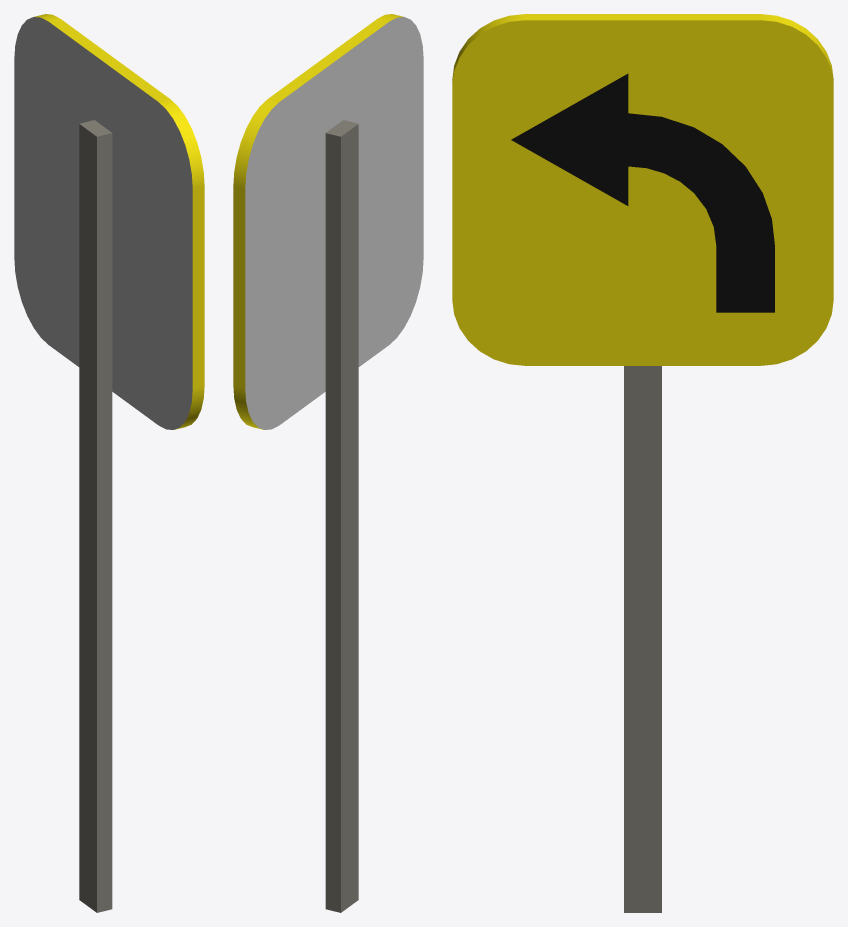
The model's file is Prop_Track_Sign_Upcoming_Curve_90.obj.
The picture shows the model from 3 angles, left to right: view 1: azimuth 30°, elevation 25°; view 2: azimuth 150°, elevation 25°; view 3: azimuth 270°, elevation 25°; orthographic projection. The views are drawn at different scales.
Parts seen in each view (by area): view 1: object2, object1; view 2: object2, object1; view 3: object2, object1.
Boxes of the visible parts, x1=… form: object2: x1=14, y1=14, x2=204, y2=429; object1: x1=79, y1=120, x2=112, y2=912; object2: x1=233, y1=14, x2=423, y2=429; object1: x1=325, y1=120, x2=358, y2=912; object2: x1=452, y1=14, x2=833, y2=365; object1: x1=624, y1=366, x2=661, y2=912.
Size of the model in its own units: 0.0457 by 1.34 by 0.5161.
